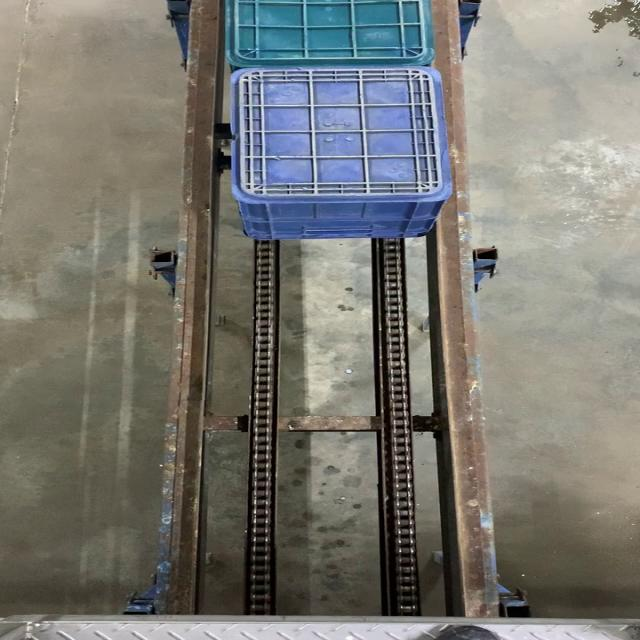Box: (232, 68, 447, 202)
